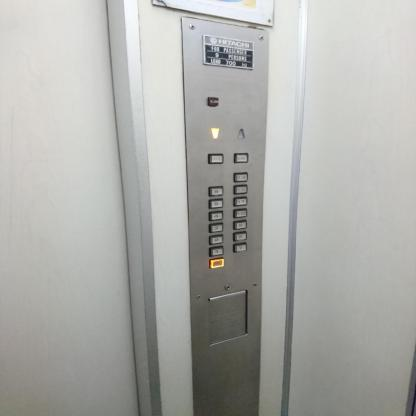1: (209, 246, 223, 257)
10: (233, 208, 248, 219)
11: (232, 196, 247, 206)
12: (233, 184, 248, 195)
13: (233, 172, 248, 182)
2: (208, 234, 223, 245)
3: (209, 223, 223, 234)
4: (209, 211, 223, 222)
5: (209, 198, 223, 209)
6: (209, 186, 223, 196)
7: (233, 242, 247, 253)
8: (233, 230, 247, 242)
9: (233, 219, 247, 230)
blur: (209, 258, 224, 269)
keyhole: (224, 282, 232, 292)
text: (206, 152, 224, 164), (233, 152, 249, 163)
text_alarm bell: (207, 96, 219, 107)
